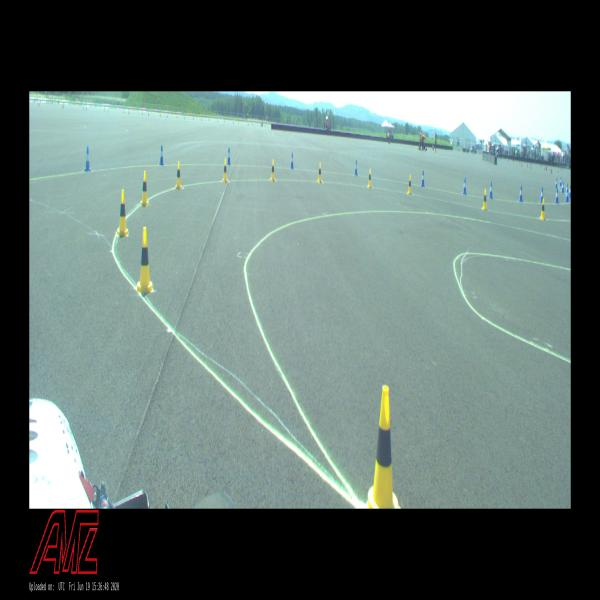blue_cone: (85, 146, 90, 171), (160, 145, 164, 165), (227, 147, 231, 165), (421, 170, 425, 187), (488, 182, 492, 198), (519, 186, 523, 201), (555, 188, 559, 203), (290, 153, 294, 168), (463, 178, 466, 194), (540, 187, 543, 203), (355, 160, 358, 175), (566, 189, 568, 202), (569, 186, 571, 197), (566, 184, 568, 194), (562, 182, 564, 192), (555, 179, 557, 188), (560, 177, 561, 186)
yellow_cone: (366, 385, 399, 508), (136, 228, 154, 292), (118, 190, 128, 236), (141, 171, 149, 206), (176, 162, 182, 188), (482, 189, 488, 209), (223, 159, 228, 182), (540, 198, 545, 220), (271, 159, 275, 181), (318, 163, 322, 183), (368, 168, 372, 187), (408, 174, 412, 193)
